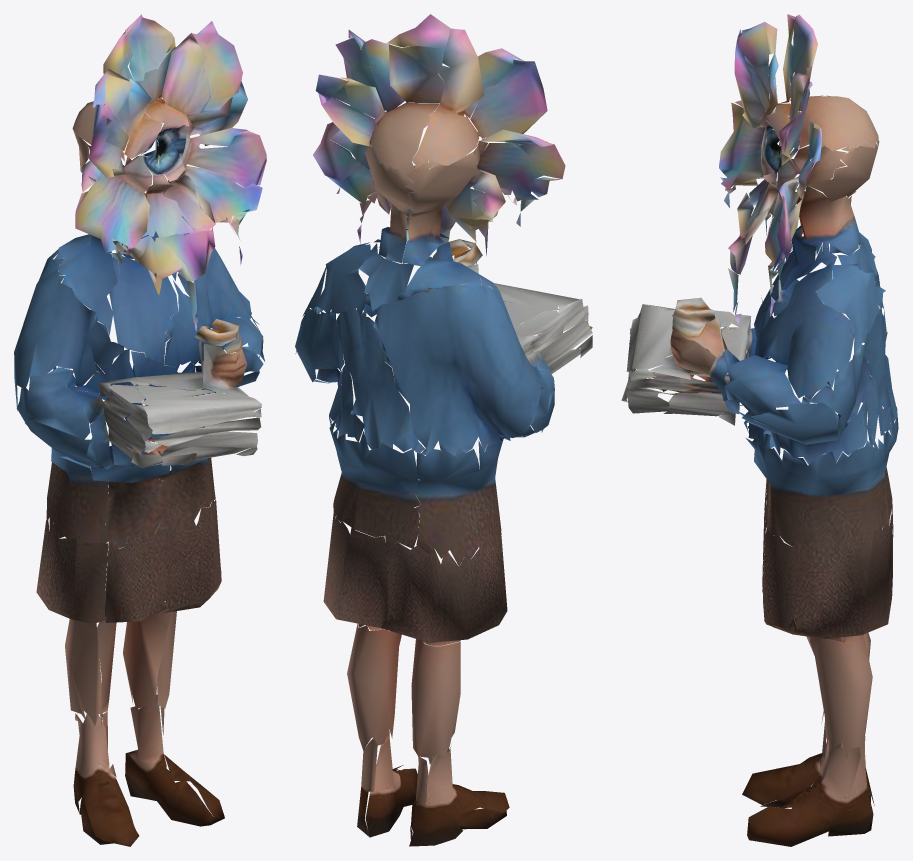
The model's file is crowd_assistant.glb.
3 renders of one model, left to right at view 1: azimuth 30°, elevation 25°; view 2: azimuth 150°, elevation 25°; view 3: azimuth 270°, elevation 25°, orthographic.
Visible parts, largest first — view 1: tripo_node_583bd843-d0c9-4fd2-bfd0-3545a6174963; view 2: tripo_node_583bd843-d0c9-4fd2-bfd0-3545a6174963; view 3: tripo_node_583bd843-d0c9-4fd2-bfd0-3545a6174963.
Part boxes in pixels (box(x1,y1,x2,y2)): tripo_node_583bd843-d0c9-4fd2-bfd0-3545a6174963: box(14, 14, 266, 846); tripo_node_583bd843-d0c9-4fd2-bfd0-3545a6174963: box(295, 14, 592, 846); tripo_node_583bd843-d0c9-4fd2-bfd0-3545a6174963: box(621, 14, 898, 846).
Size of the model in its own units: 0.5846 by 1.88 by 0.5877.
1 material, 1 textured.
